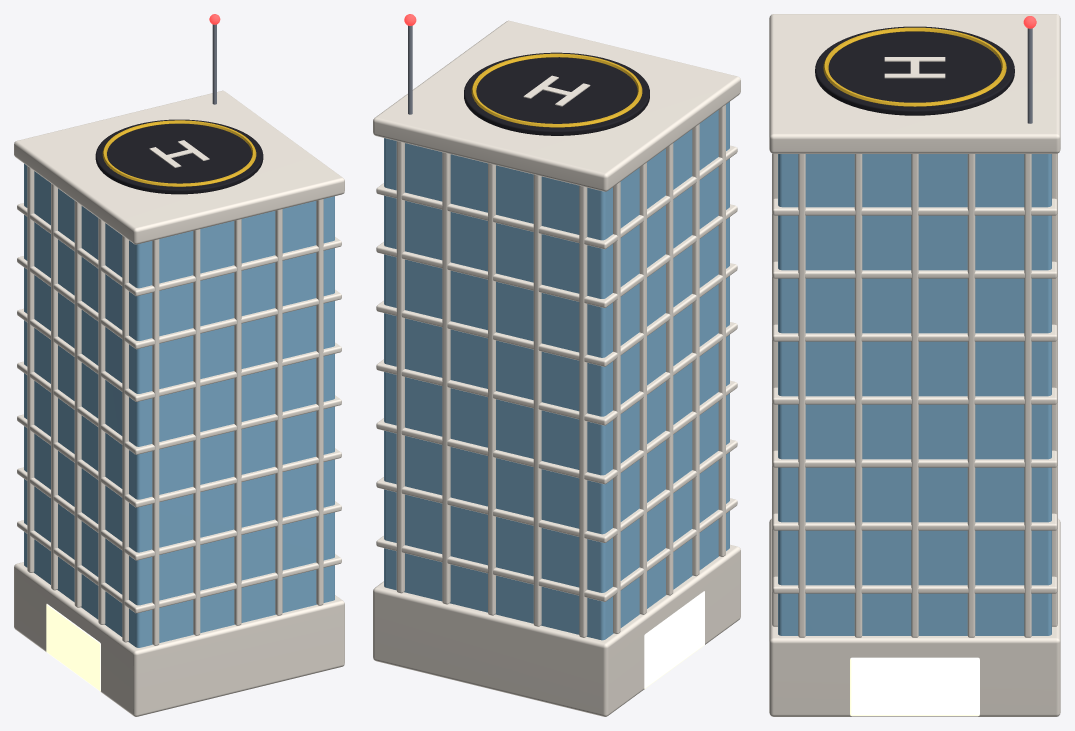
The model's file is office.glb.
3 views of the same model, side by side, from view 1: azimuth 30°, elevation 25°; view 2: azimuth 150°, elevation 25°; view 3: azimuth 270°, elevation 25° (orthographic). The views are drawn at different scales.
Parts seen in each view (by area): view 1: office; view 2: office; view 3: office.
Part boxes in pixels (left/top/right/bottom): office: left=14, top=14, right=344, bottom=716; office: left=373, top=14, right=740, bottom=716; office: left=769, top=14, right=1060, bottom=716.
Size of the model in its own units: 13.5 by 35 by 13.4.
Materials: 1 (1 with a texture image).
